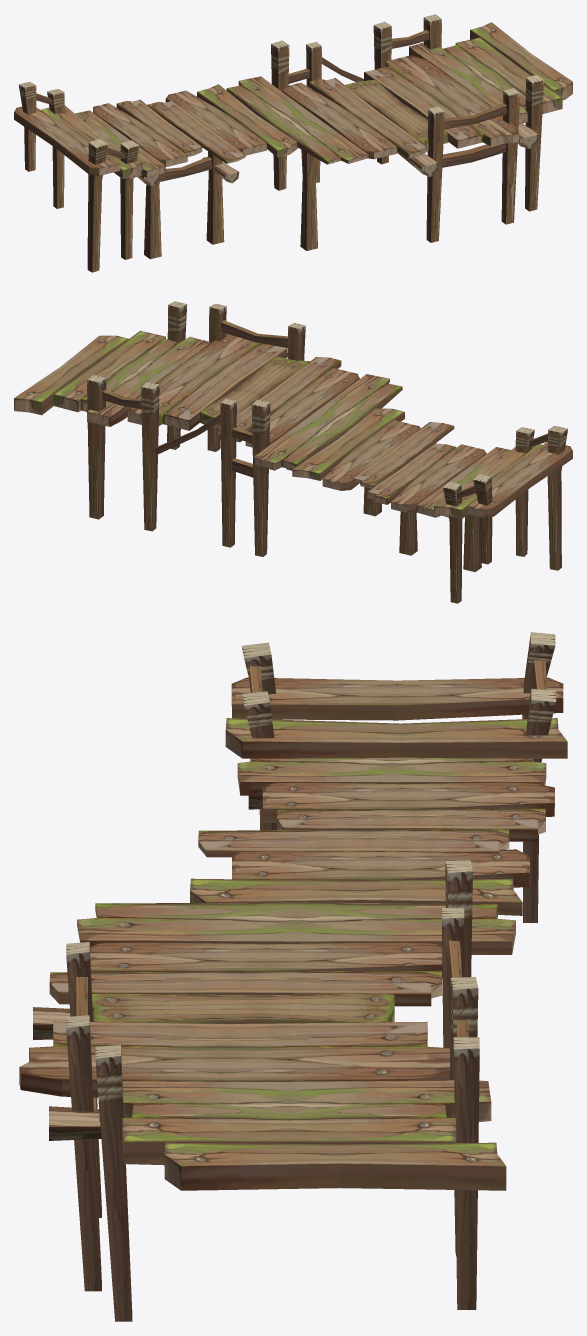
Rendered from Map_05_bridge02.FBX.
The picture shows the model from 3 angles, top to bottom: view 1: azimuth 30°, elevation 25°; view 2: azimuth 150°, elevation 25°; view 3: azimuth 270°, elevation 25°; orthographic projection. The views are drawn at different scales.
Parts seen in each view (by area): view 1: Map_05_bridge02; view 2: Map_05_bridge02; view 3: Map_05_bridge02.
Boxes of the visible parts, box(x1,y1,x2,y2) form: Map_05_bridge02: box(14, 14, 572, 272); Map_05_bridge02: box(14, 301, 572, 603); Map_05_bridge02: box(19, 632, 567, 1321).
Bounding box in the file's own units: 1128 × 335 × 573.
